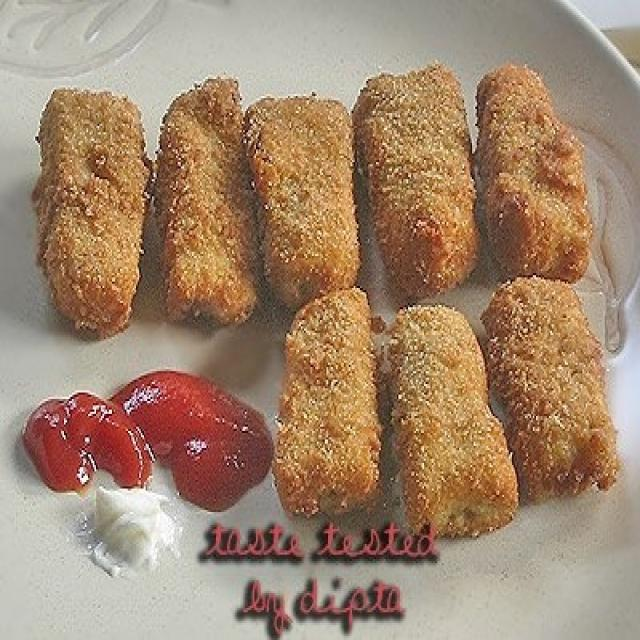鸡肉料理 含炸鸡: (37, 77, 605, 495)
